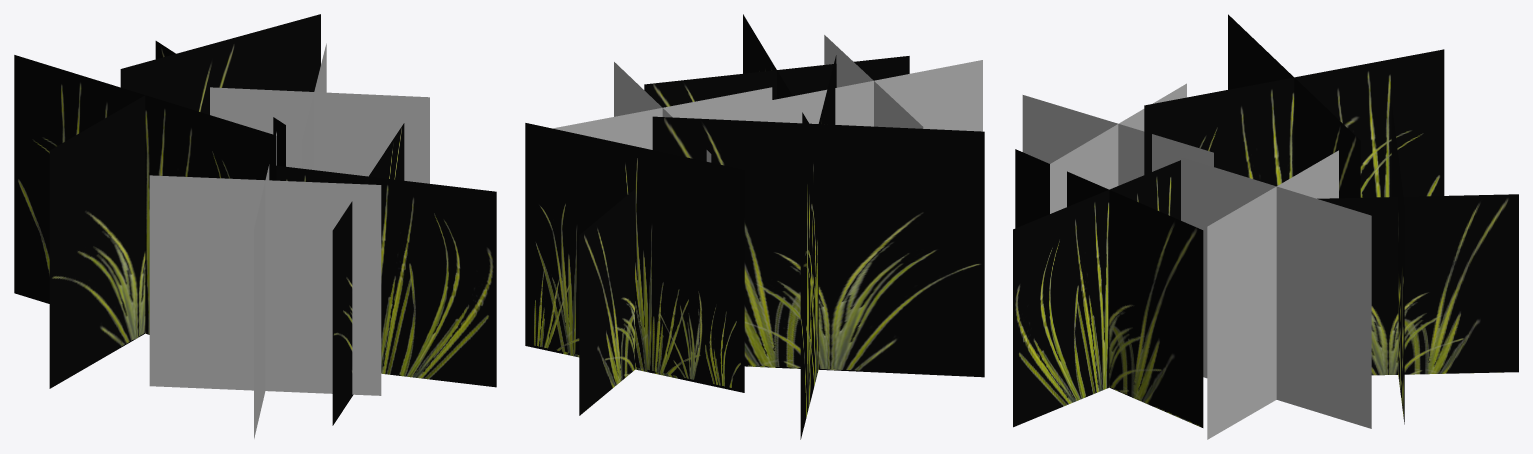
File: grass_flower_patch5.fbx
The picture shows the model from 3 angles, left to right: view 1: azimuth 30°, elevation 25°; view 2: azimuth 150°, elevation 25°; view 3: azimuth 270°, elevation 25°; orthographic projection. The views are drawn at different scales.
Visible parts, largest first — view 1: Plane.001, Plane.005; view 2: Plane.001, Plane.005; view 3: Plane.001, Plane.005.
Boxes of the visible parts, x1,y1,x2,y2 form: Plane.001: (14, 14, 496, 425); Plane.005: (149, 43, 429, 438); Plane.001: (525, 14, 984, 439); Plane.005: (553, 35, 982, 162); Plane.001: (1013, 14, 1518, 427); Plane.005: (1022, 83, 1371, 439).
Size of the model in its own units: 32.2 by 20.15 by 37.69.
